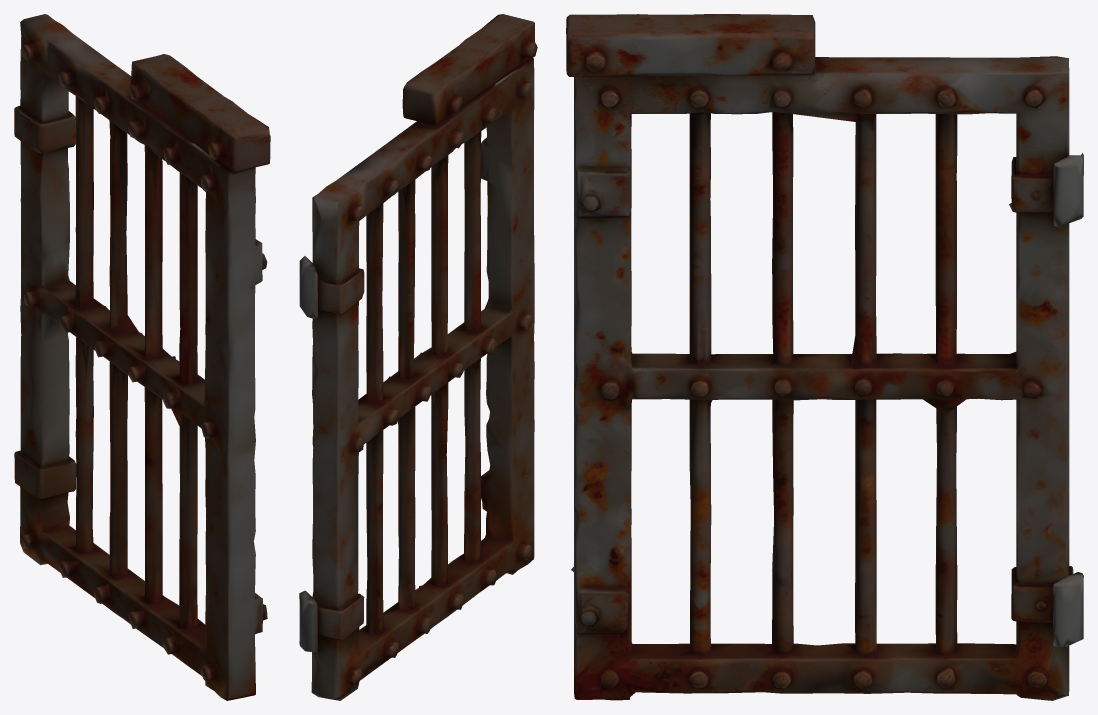
The model's file is cell_door.glb.
The picture shows the model from 3 angles, left to right: view 1: azimuth 30°, elevation 25°; view 2: azimuth 150°, elevation 25°; view 3: azimuth 270°, elevation 25°; orthographic projection. The views are drawn at different scales.
Visible parts, largest first — view 1: tripo_node_199efb70-2075-415a-8abf-3c697aa941f4; view 2: tripo_node_199efb70-2075-415a-8abf-3c697aa941f4; view 3: tripo_node_199efb70-2075-415a-8abf-3c697aa941f4.
Boxes of the visible parts, bbox=[...] form: tripo_node_199efb70-2075-415a-8abf-3c697aa941f4: bbox=[14, 14, 270, 700]; tripo_node_199efb70-2075-415a-8abf-3c697aa941f4: bbox=[299, 14, 537, 700]; tripo_node_199efb70-2075-415a-8abf-3c697aa941f4: bbox=[566, 14, 1083, 700].
Size of the model in its own units: 0.1039 by 1 by 0.6971.
Materials: 1 (1 with a texture image).
